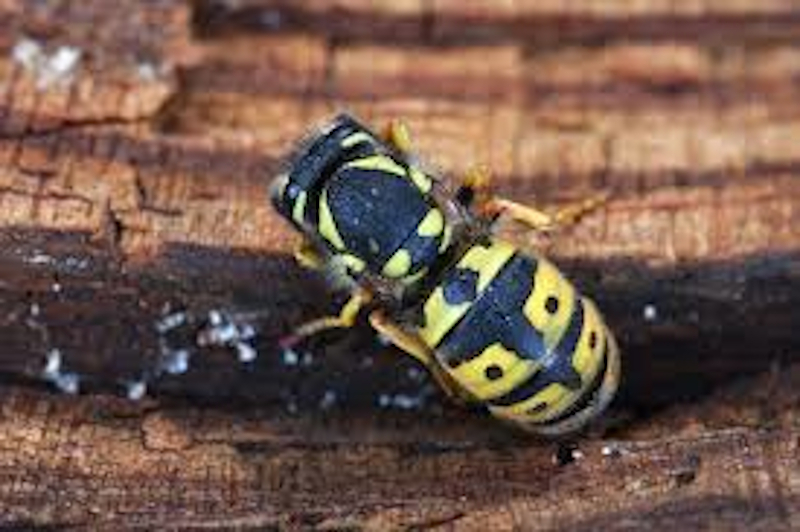chax: (225, 99, 685, 459)
